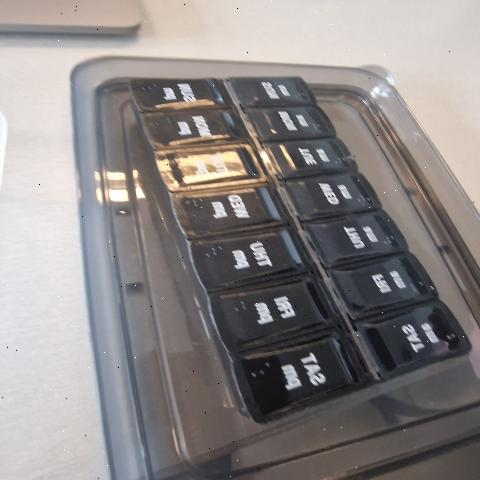PillBox: (66, 59, 472, 432)
